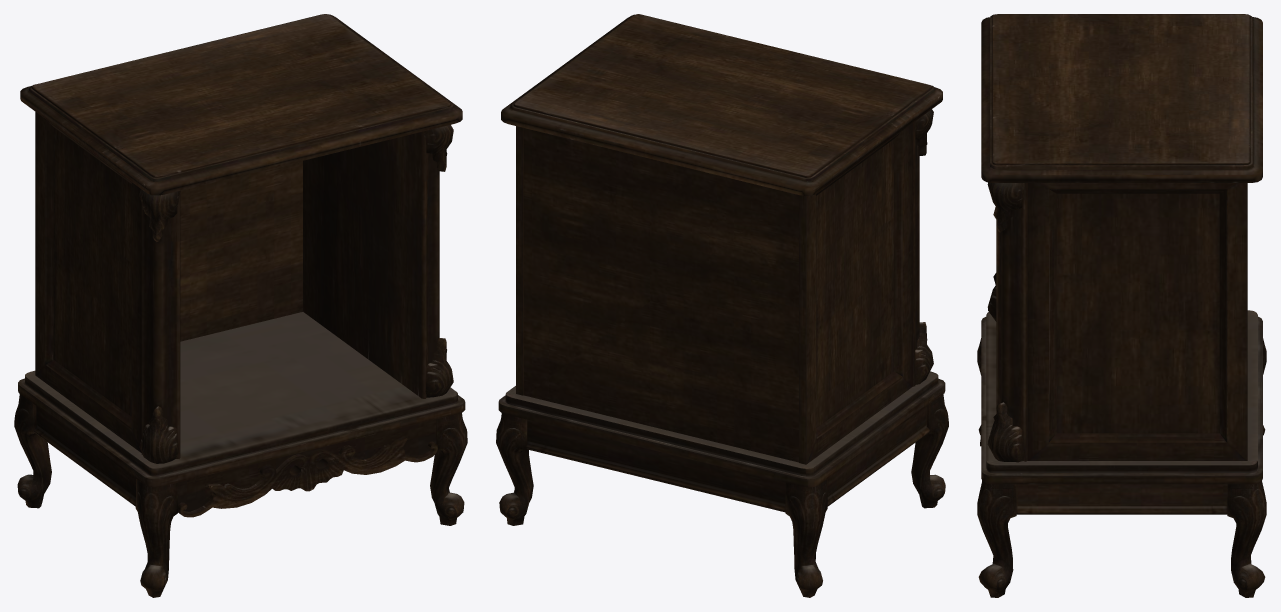
Rendered from ClassicNightstand_01.glb.
The picture shows the model from 3 angles, left to right: view 1: azimuth 30°, elevation 25°; view 2: azimuth 150°, elevation 25°; view 3: azimuth 270°, elevation 25°; orthographic projection. The views are drawn at different scales.
Parts seen in each view (by area): view 1: Nightstand; view 2: Nightstand; view 3: Nightstand.
Part boxes in pixels (box(x1,y1,x2,y2)): Nightstand: box(14, 14, 467, 597); Nightstand: box(496, 14, 948, 597); Nightstand: box(977, 14, 1266, 597).
Bounding box in the file's own units: 0.5676 × 0.7 × 0.4244.
1 material, 1 textured.
